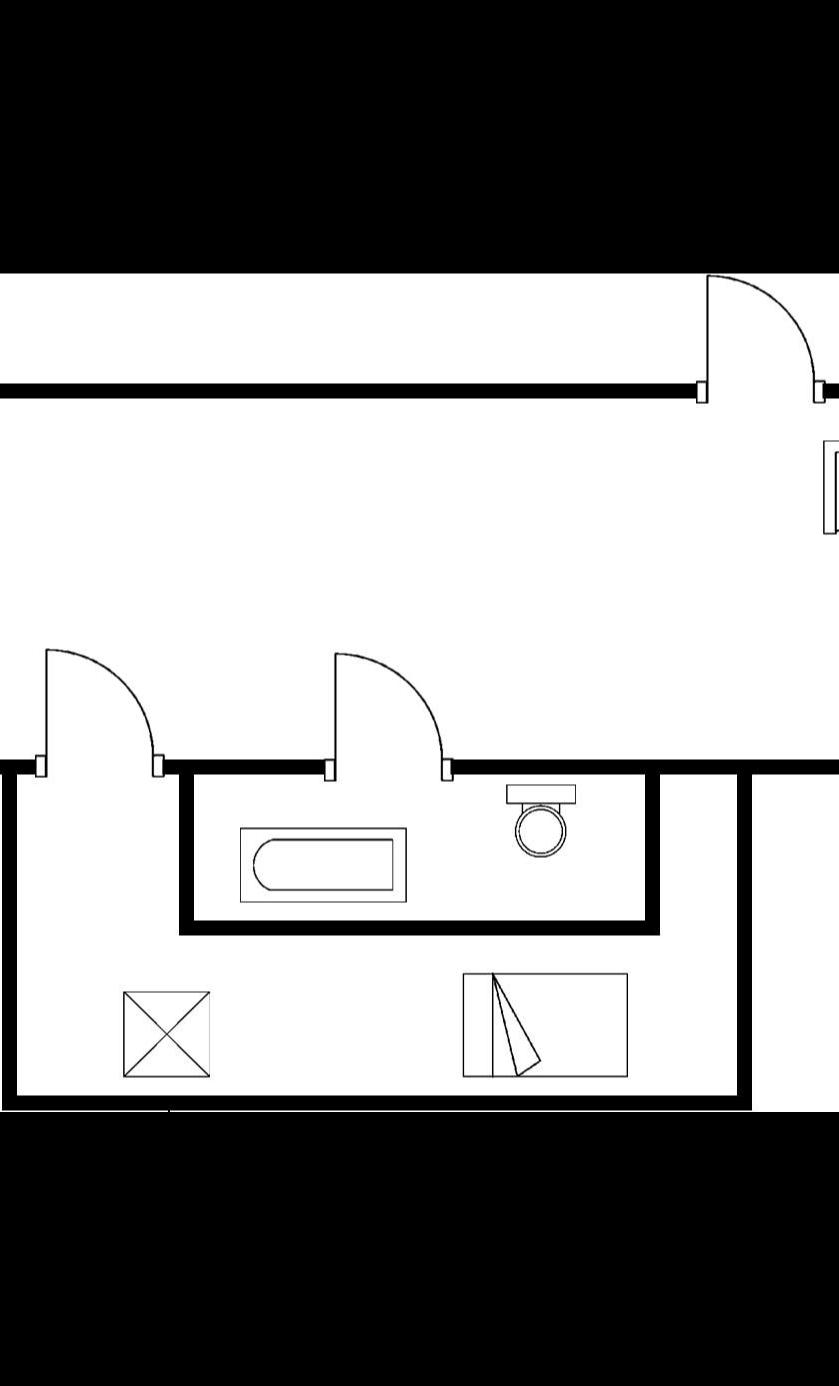bed: (456, 965, 632, 1088)
toilet: (501, 782, 582, 865)
tub: (231, 818, 412, 910)
